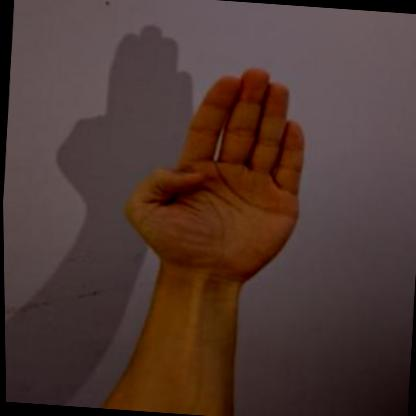B: (104, 51, 325, 304)
